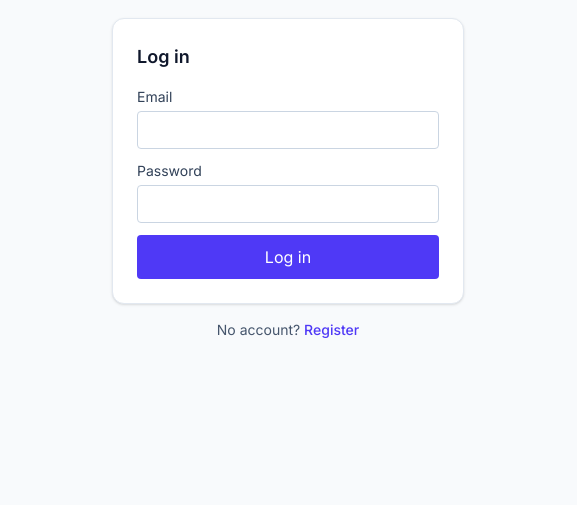
it: LoginPage › navigates to the authenticated app (real ProtectedRoute) on successful login
The width and height of the screenshot is (577, 505).
Type "alice@example.com" into the field labelled "Email".
click(288, 130); type("alice@example.com")  # box [137, 111, 439, 149]
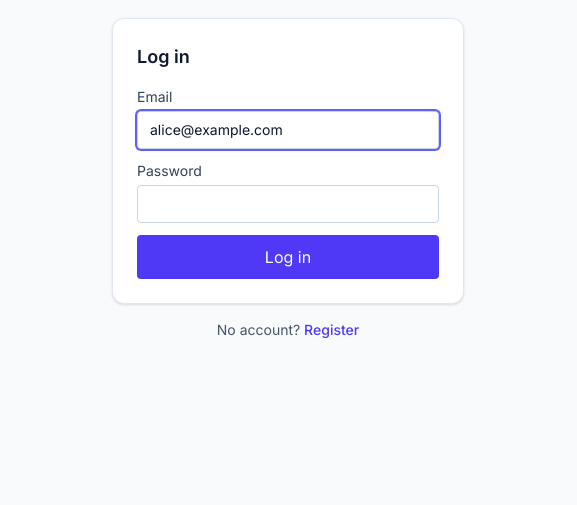
Type "correct-password" into the password field labelled "Password".
click(288, 204); type("correct-password")  # box [137, 185, 439, 223]
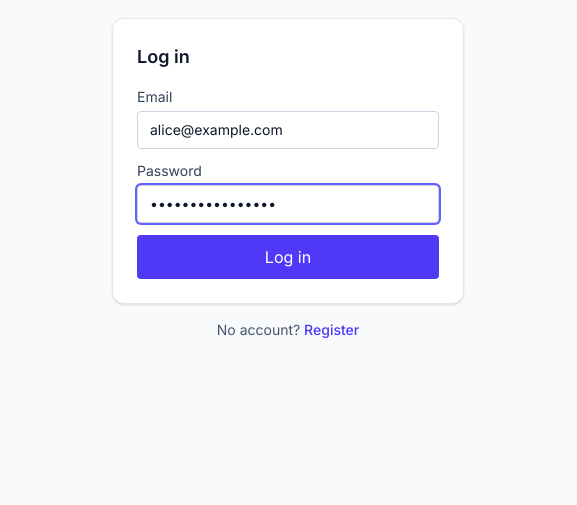
Click the button "Log in".
click(288, 257)  # box [137, 235, 439, 279]
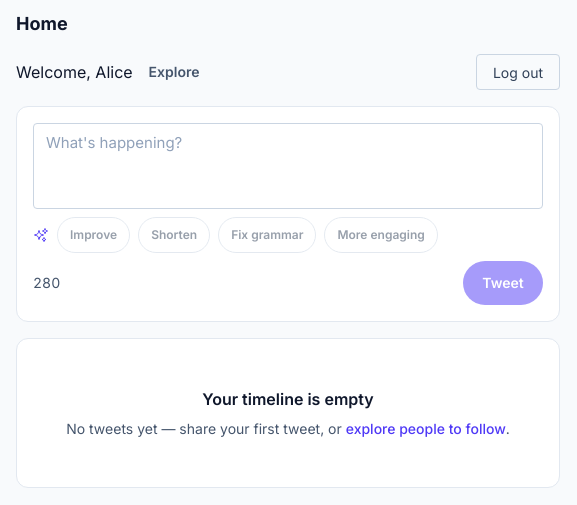
Expected: the text "Welcome, Alice" is shown, [16, 60, 133, 84]
